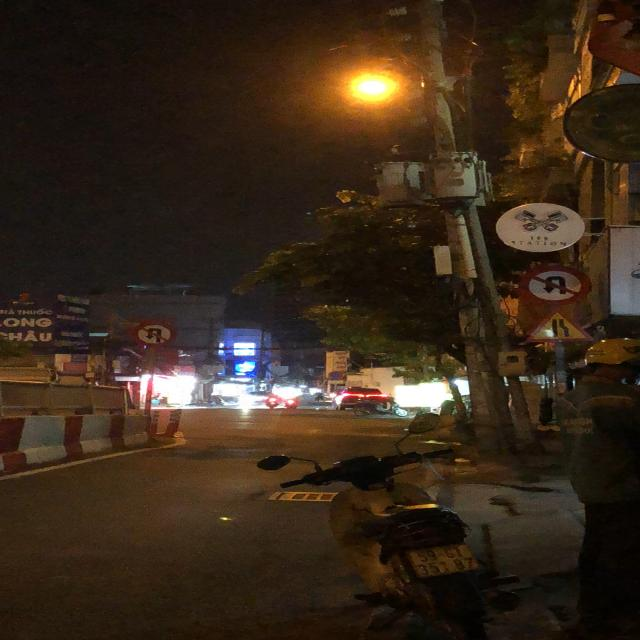Bien bao cam quay dau xe: (512, 264, 603, 306), (130, 316, 177, 348)
Bien bao duong bi thu hep: (516, 306, 597, 348)
